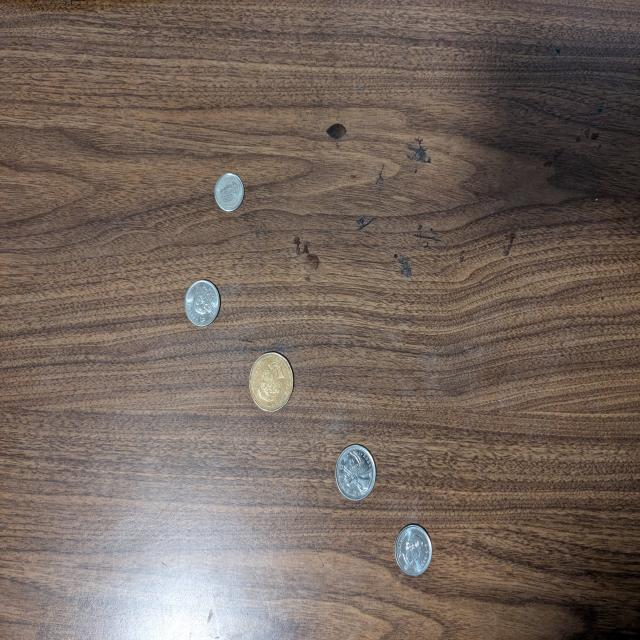dime: (215, 172, 244, 212)
loonie: (250, 353, 292, 413)
nickel: (394, 524, 432, 576), (186, 281, 221, 327)
quarter: (336, 442, 376, 502)
